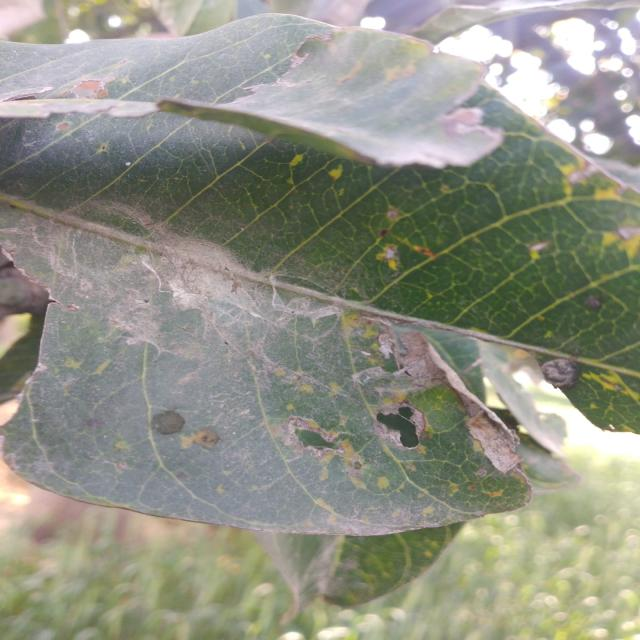Bacterial Cancer: (365, 319, 514, 467), (285, 419, 369, 458)
Powdery Mildew: (148, 230, 272, 312), (377, 246, 415, 276), (523, 239, 548, 255)
black die: (148, 408, 196, 441)
